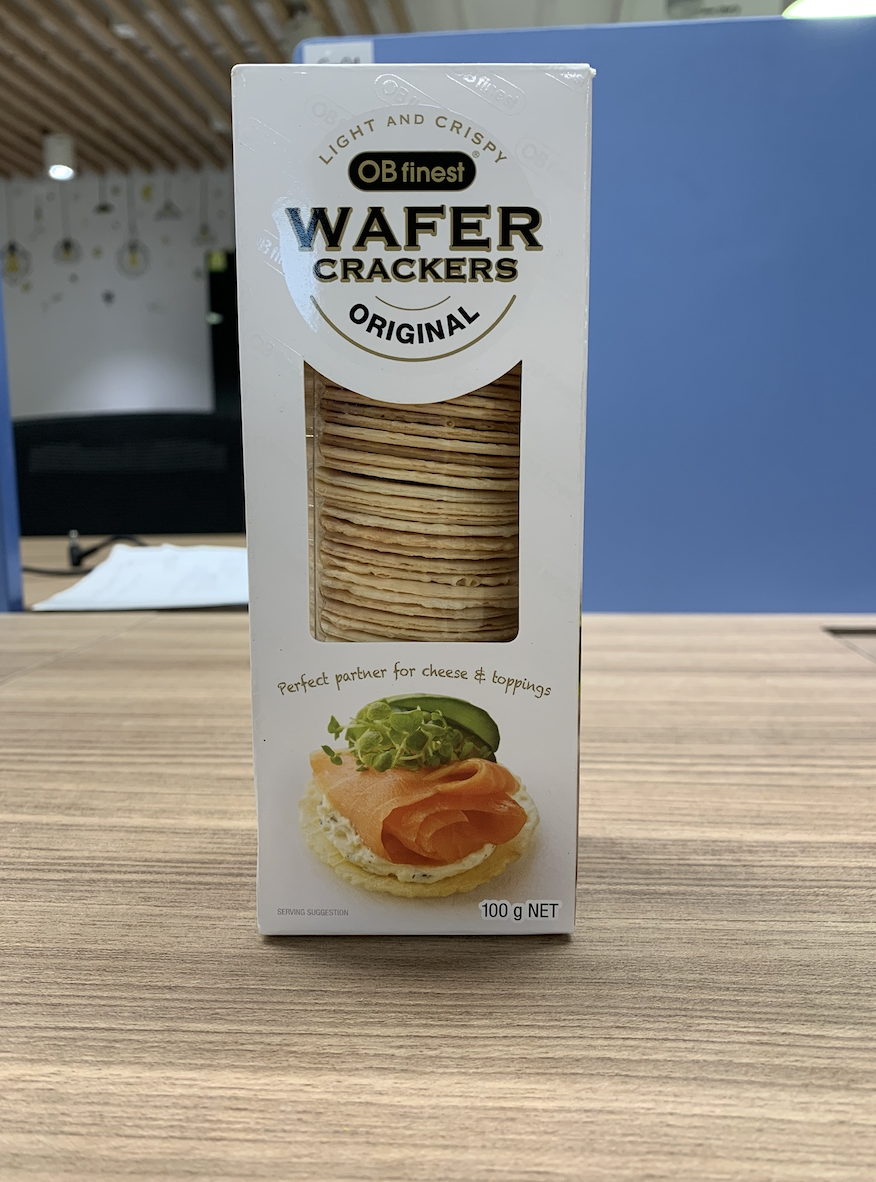crackers_100g-199g: (264, 100, 570, 924)
